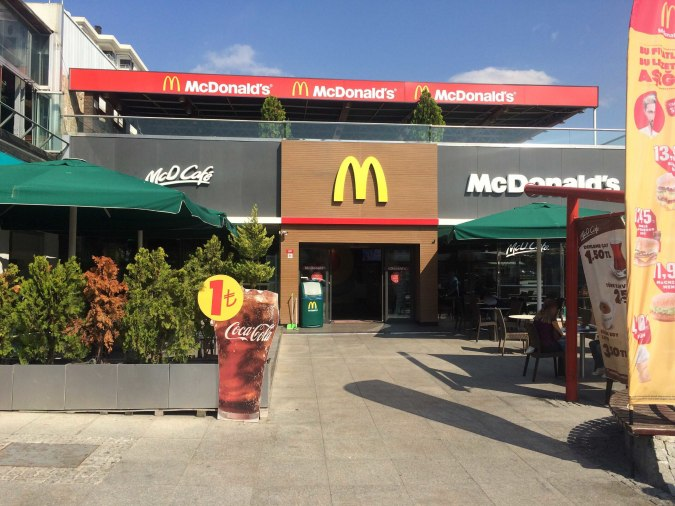mcdonalds: (327, 151, 396, 210)
